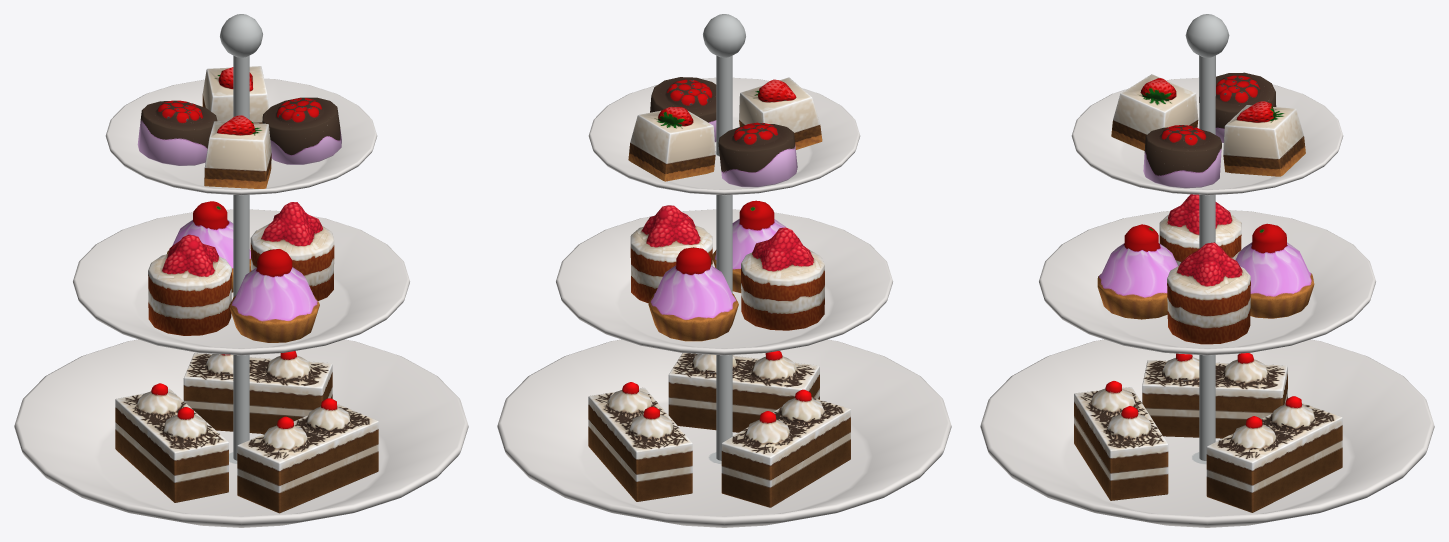
Rendered from BuffetDesserts01_2.FBX.
3 views of the same model, side by side, from view 1: azimuth 30°, elevation 25°; view 2: azimuth 150°, elevation 25°; view 3: azimuth 270°, elevation 25° (orthographic).
Parts seen in each view (by area): view 1: BuffetDesserts01_2; view 2: BuffetDesserts01_2; view 3: BuffetDesserts01_2.
Boxes of the visible parts, box(x1,y1,x2,y2) form: BuffetDesserts01_2: box(14, 14, 468, 527); BuffetDesserts01_2: box(497, 14, 951, 527); BuffetDesserts01_2: box(980, 14, 1434, 527).
Size of what is drawn, in the model's own units: 0.583 by 0.6338 by 0.583.
